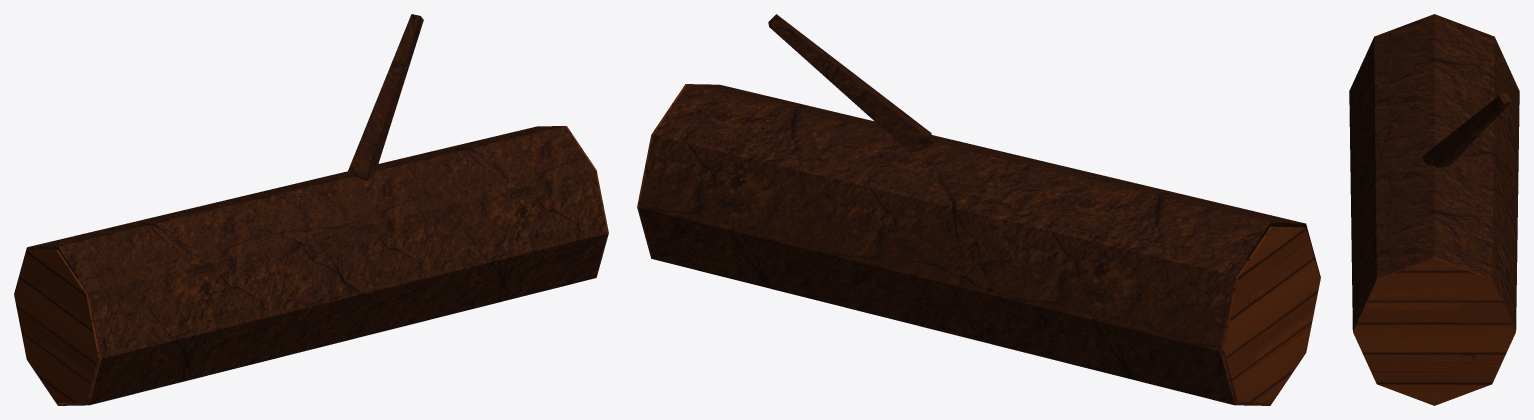
File: log_01_real.gltf
3 views of the same model, side by side, from view 1: azimuth 30°, elevation 25°; view 2: azimuth 150°, elevation 25°; view 3: azimuth 270°, elevation 25° (orthographic). The views are drawn at different scales.
Visible parts, largest first — view 1: log_01; view 2: log_01; view 3: log_01.
Boxes of the visible parts, x1=… form: log_01: x1=14, y1=14, x2=608, y2=405; log_01: x1=637, y1=14, x2=1320, y2=405; log_01: x1=1349, y1=14, x2=1519, y2=405.
Bounding box in the file's own units: 1.61 × 0.8104 × 0.48.
2 materials, 2 textured.
